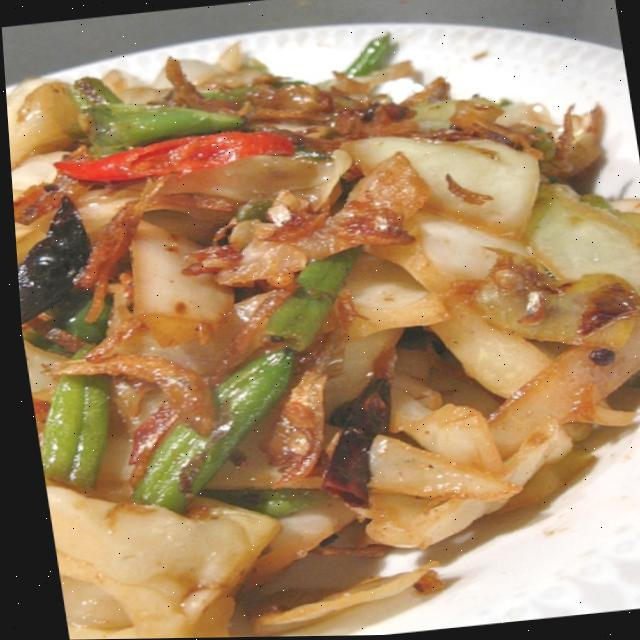蔬菜料理: (1, 10, 640, 640)
